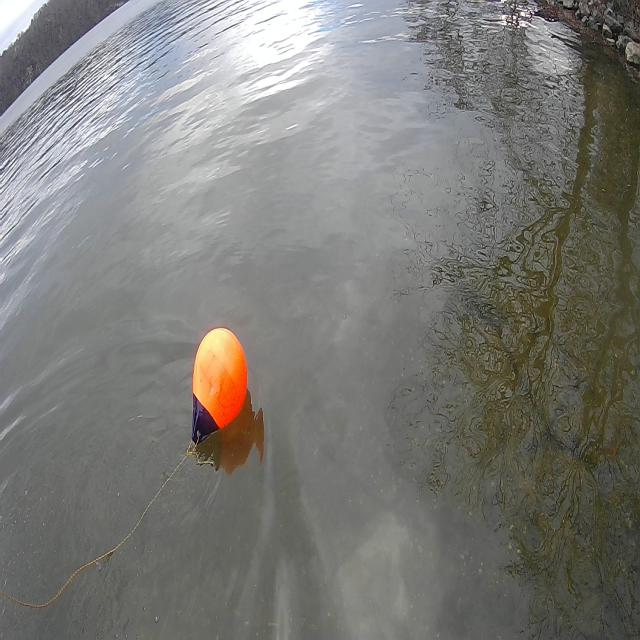Buoy: (190, 324, 250, 434)
